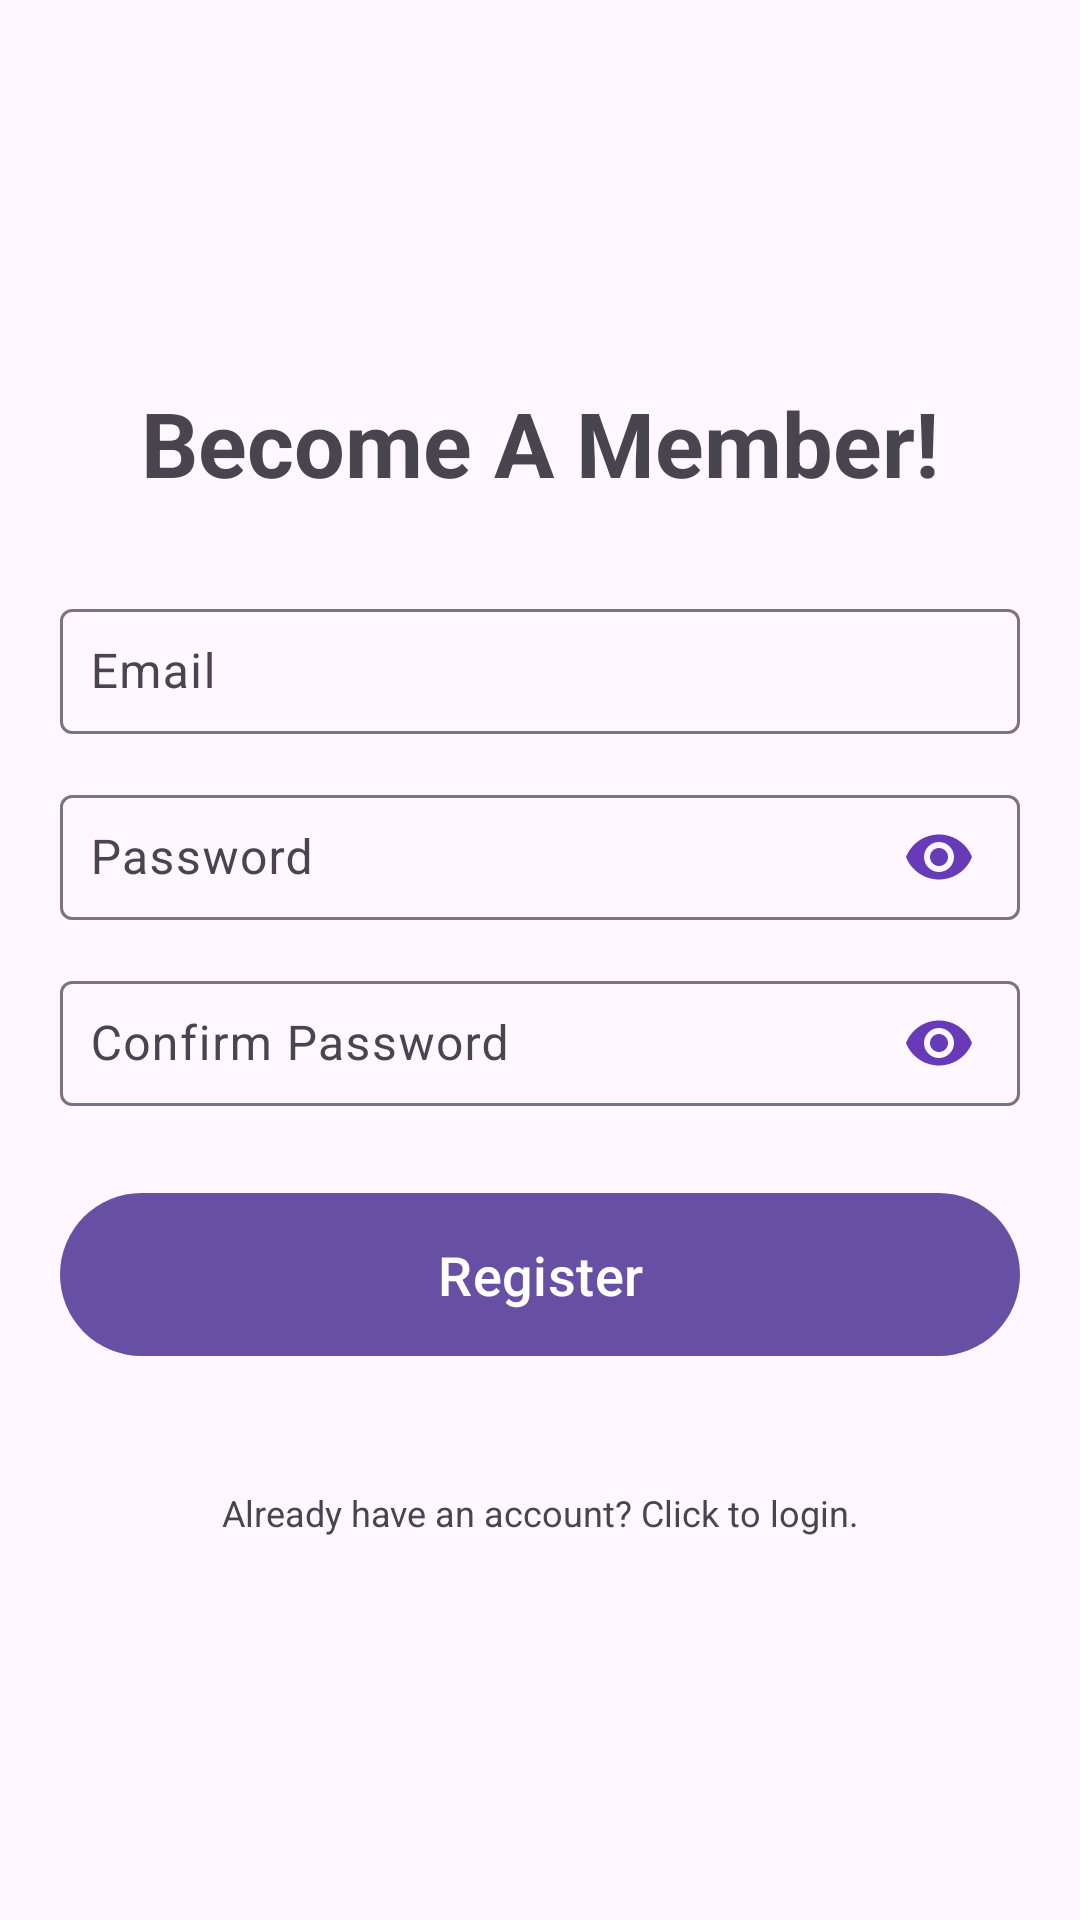

Named icons in this screenshot (1080x1920) and their bounding boxes, {"left": x1, "top": y1, "right": x2, "bottom": y2}:
visibility: {"left": 906, "top": 834, "right": 972, "bottom": 880}, {"left": 906, "top": 1020, "right": 972, "bottom": 1066}
